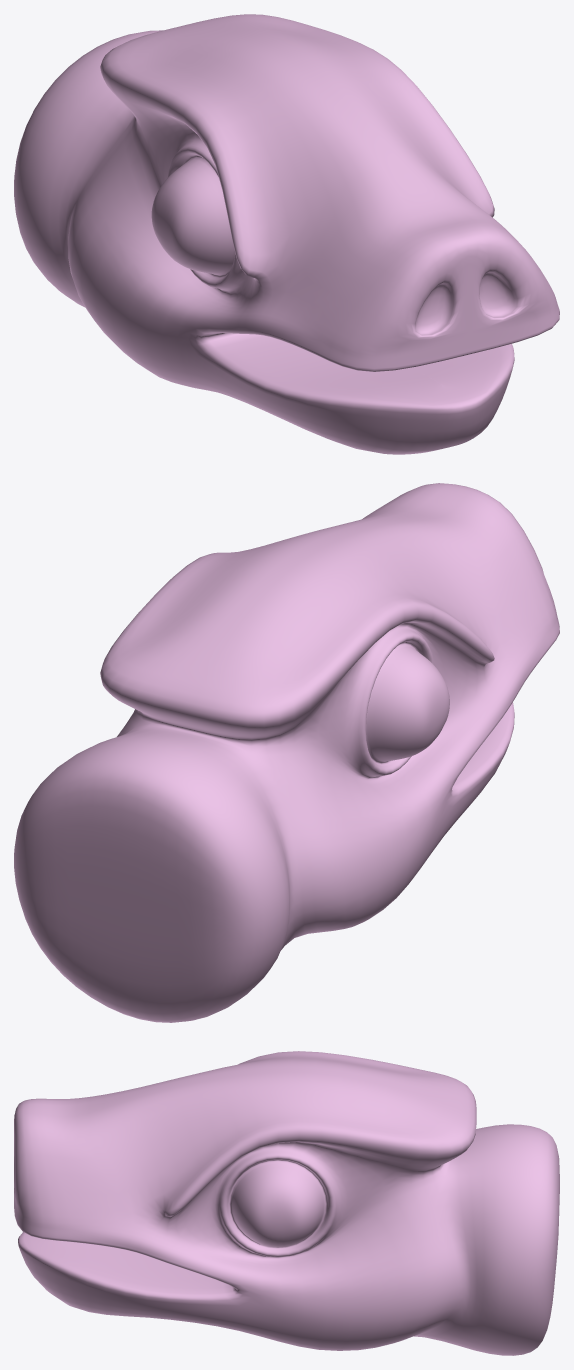
File: snake_head.gltf
3 renders of one model, top to bottom at view 1: azimuth 30°, elevation 25°; view 2: azimuth 150°, elevation 25°; view 3: azimuth 270°, elevation 25°, orthographic. The views are drawn at different scales.
Visible parts, largest first — view 1: snake_head; view 2: snake_head; view 3: snake_head.
Boxes of the visible parts, box(x1,y1,x2,y2) form: snake_head: box(14, 14, 559, 454); snake_head: box(14, 483, 559, 1022); snake_head: box(14, 1051, 559, 1355).
Bounding box in the file's own units: 1.24 × 1.47 × 2.64.
